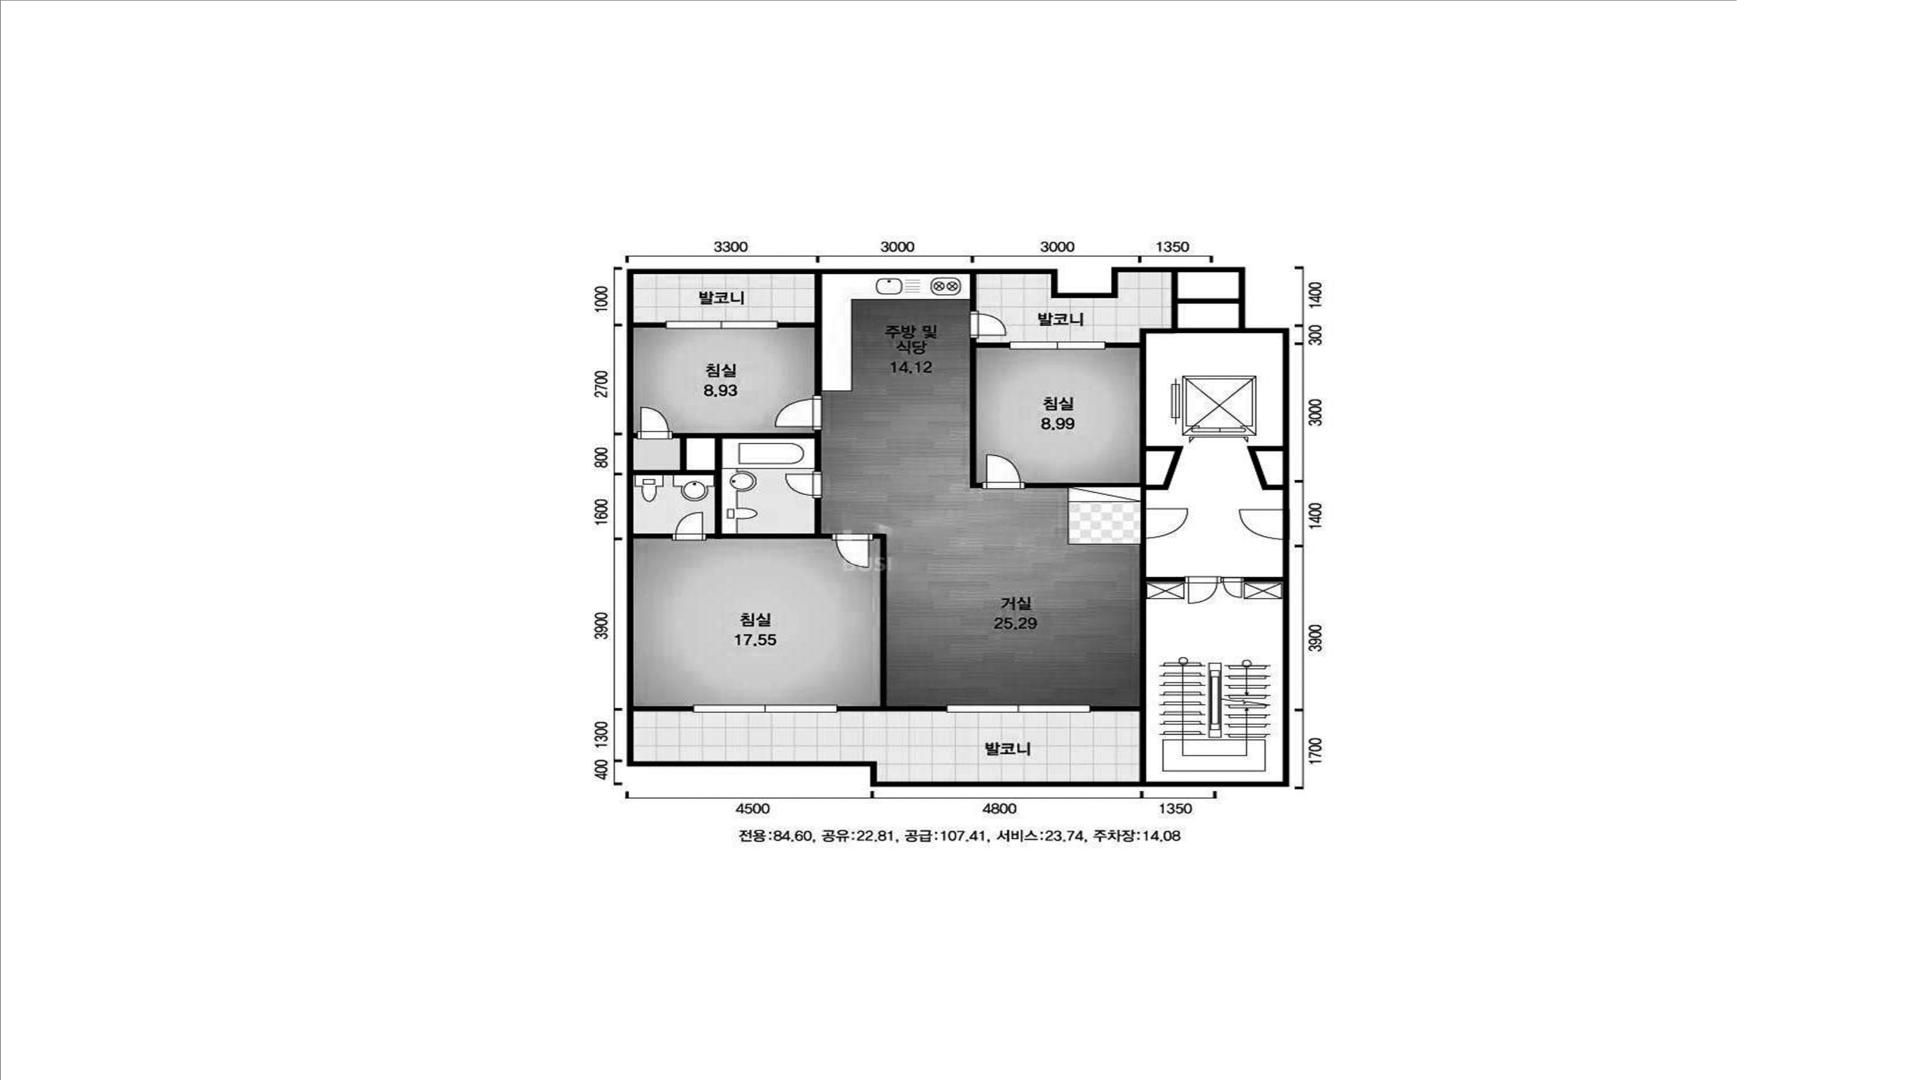door: (774, 396, 822, 430), (1185, 577, 1244, 604), (1239, 509, 1289, 540), (831, 533, 873, 568), (982, 454, 1025, 488), (1141, 508, 1188, 539), (637, 407, 672, 439), (785, 471, 822, 499), (970, 311, 1006, 338), (673, 511, 706, 538)
wall: (627, 267, 1289, 786), (633, 430, 832, 539), (837, 534, 947, 712), (970, 338, 1010, 488), (778, 274, 823, 396), (1172, 272, 1239, 328), (1146, 446, 1184, 490), (1247, 446, 1283, 490), (687, 438, 715, 470), (1025, 482, 1141, 488), (633, 706, 693, 711), (1091, 706, 1140, 712), (970, 274, 976, 311), (633, 533, 673, 538), (633, 322, 666, 328), (1146, 577, 1185, 582), (1244, 577, 1283, 582), (1105, 343, 1140, 348)
window: (693, 706, 837, 712), (947, 706, 1091, 711), (666, 322, 778, 328), (1010, 343, 1105, 348)
